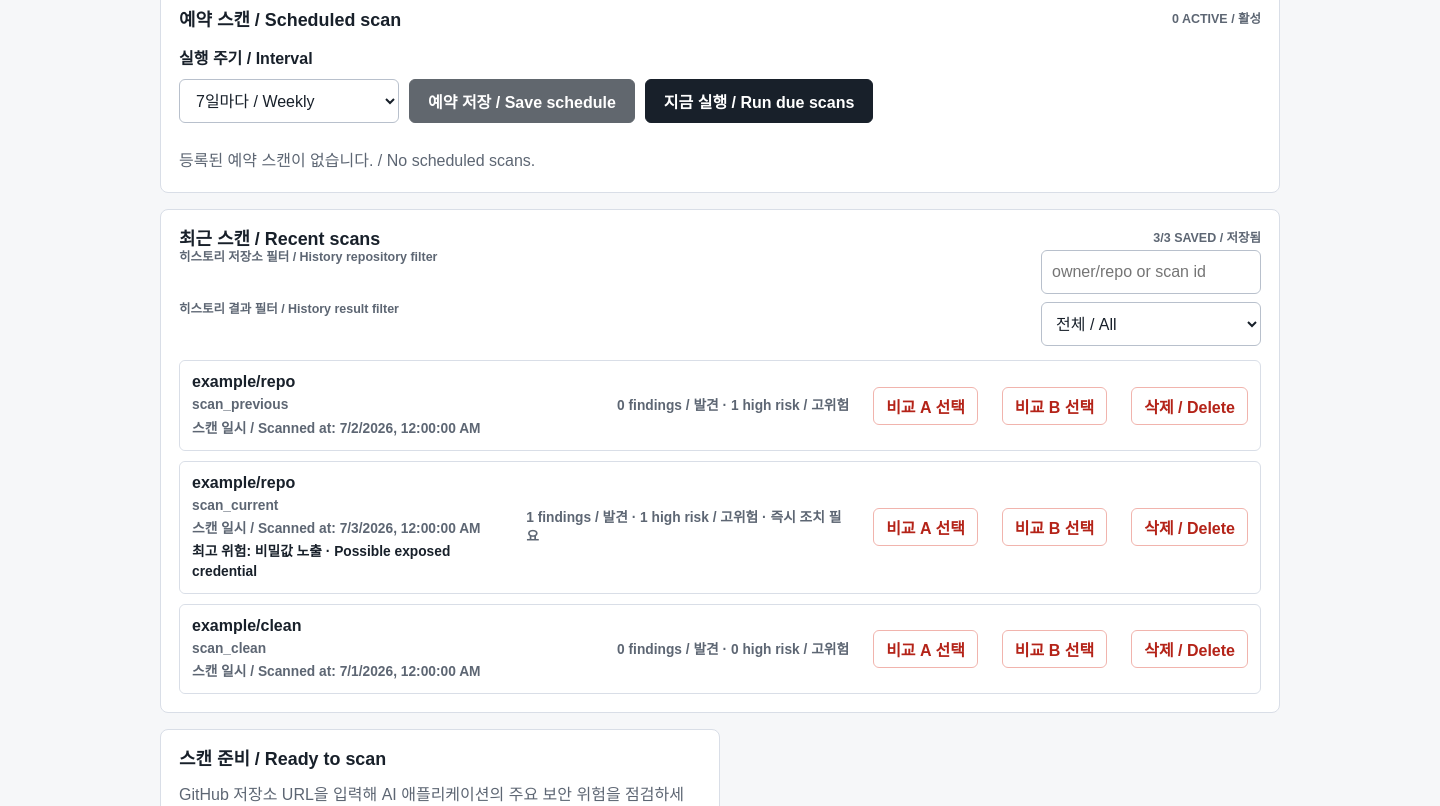
it: Home › deletes the open saved scan from recent history and clears the report
(page scrolled)
Click the button with aria-label "열기 / Open scan_previous".
click(224, 382)  # box x1=180 y1=361 x2=861 y2=450
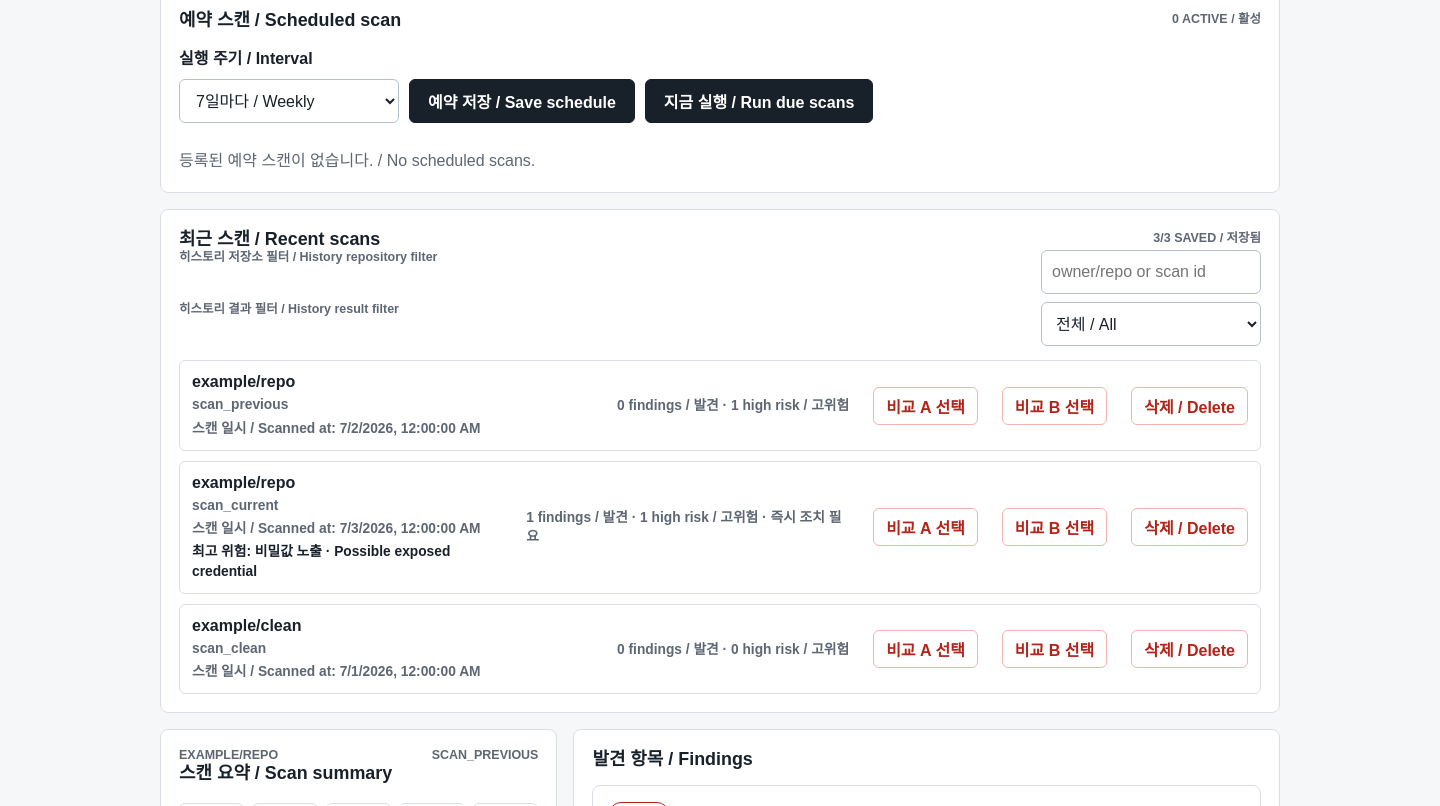
Click the button with aria-label "삭제 / Delete scan_previous".
click(1190, 406)  # box x1=1131 y1=387 x2=1248 y2=425
(page scrolled)
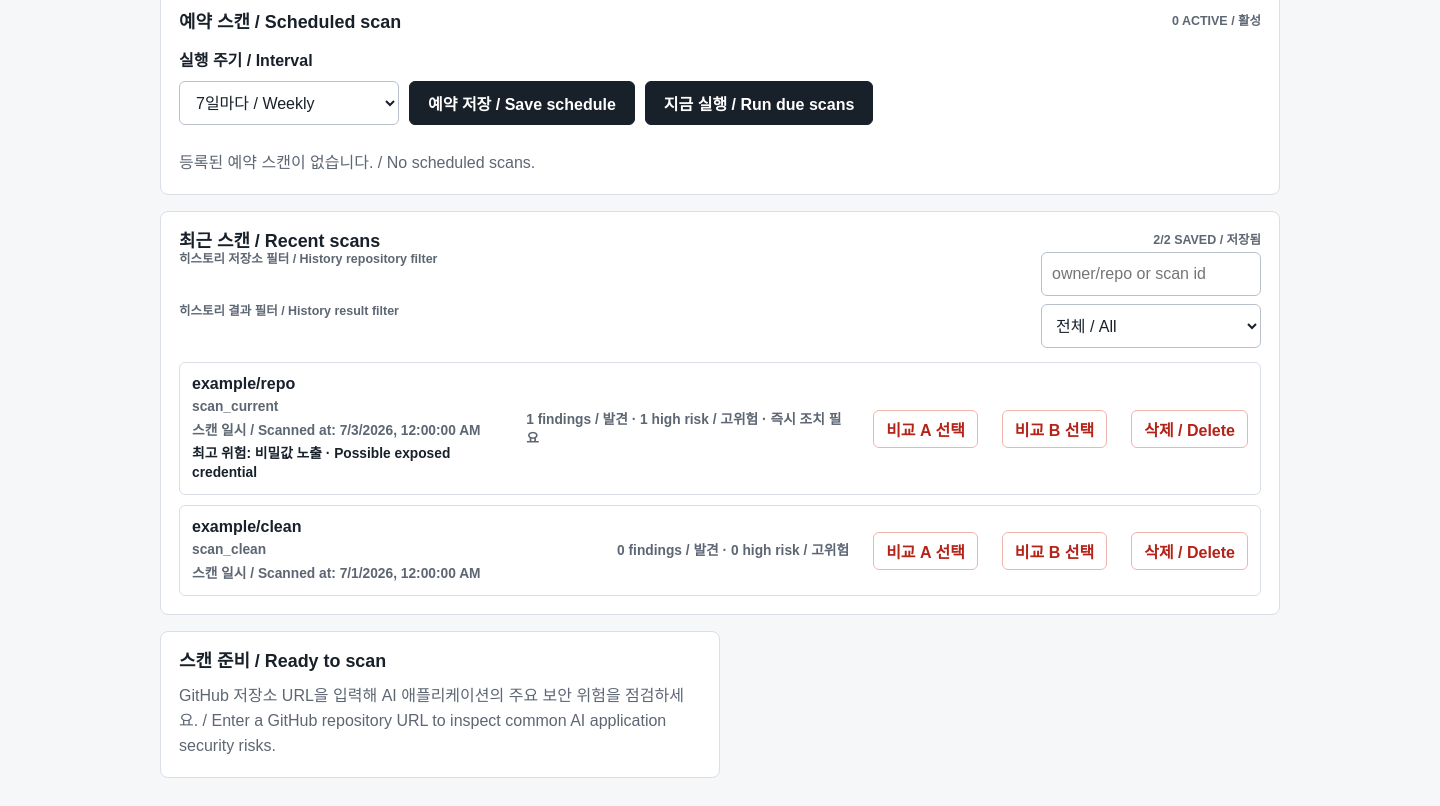
Expected: the button "scan_previous" is gone
Expected: the heading "스캔 준비 / Ready to scan" is shown, x1=179 y1=651 x2=386 y2=671
